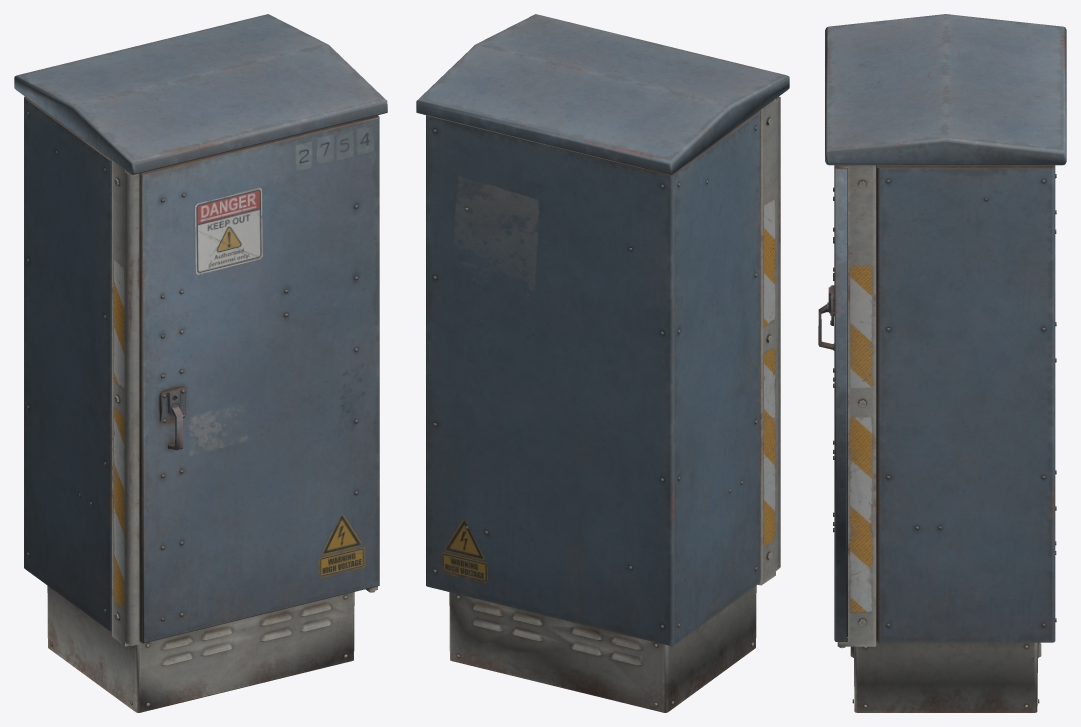
3 renders of one model, left to right at view 1: azimuth 30°, elevation 25°; view 2: azimuth 150°, elevation 25°; view 3: azimuth 270°, elevation 25°, orthographic.
Parts seen in each view (by area): view 1: utility_box_01_box; view 2: utility_box_01_box; view 3: utility_box_01_box.
Boxes of the visible parts, x1,y1,x2,y2 form: utility_box_01_box: (14, 14, 387, 712); utility_box_01_box: (416, 14, 789, 712); utility_box_01_box: (818, 14, 1066, 712).
Bounding box in the file's own units: 0.52 × 1.12 × 0.432.
Materials: 1 (1 with a texture image).
